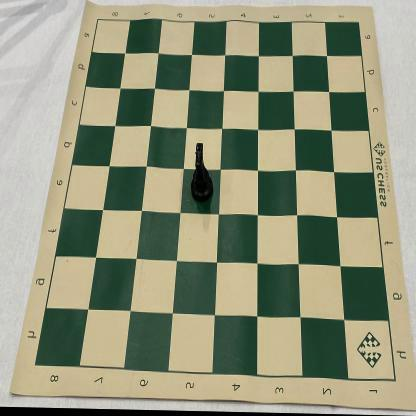black-knight: (190, 142, 214, 205)
